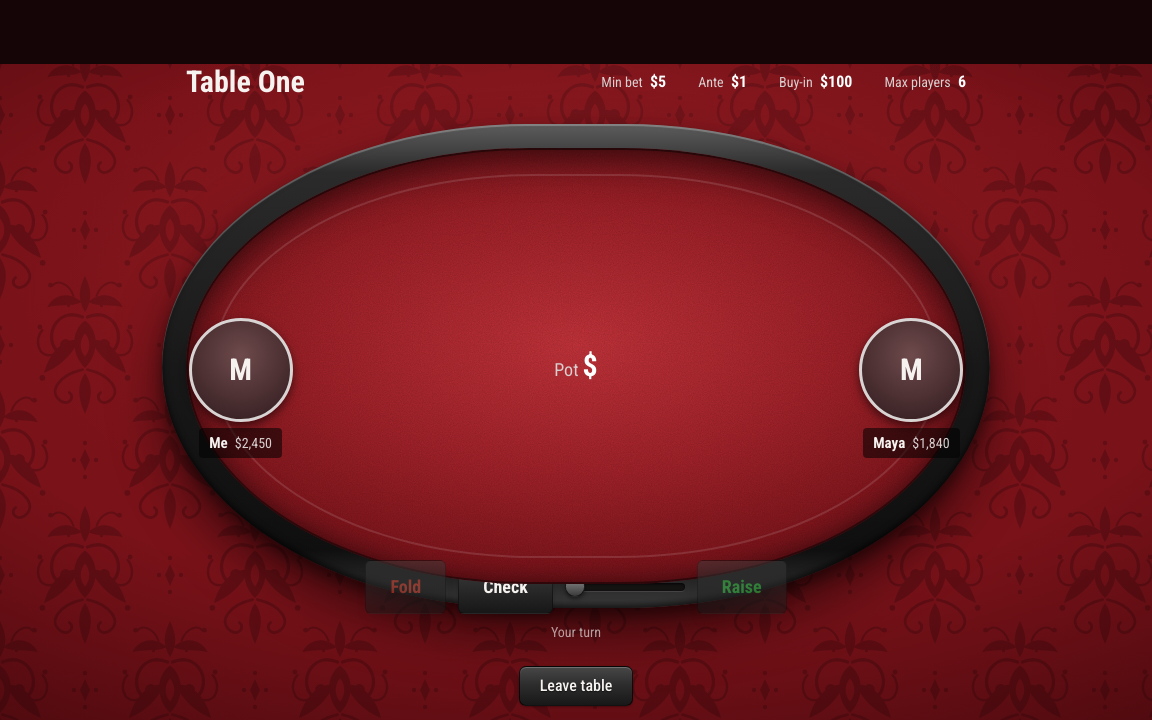
Scenario: GameTable › shows a refused action
The image size is (1152, 720).
expect the text "Maya" is shown: met, box [873, 434, 905, 452]
Click the button "Check" at (506, 587), box [458, 560, 553, 614]
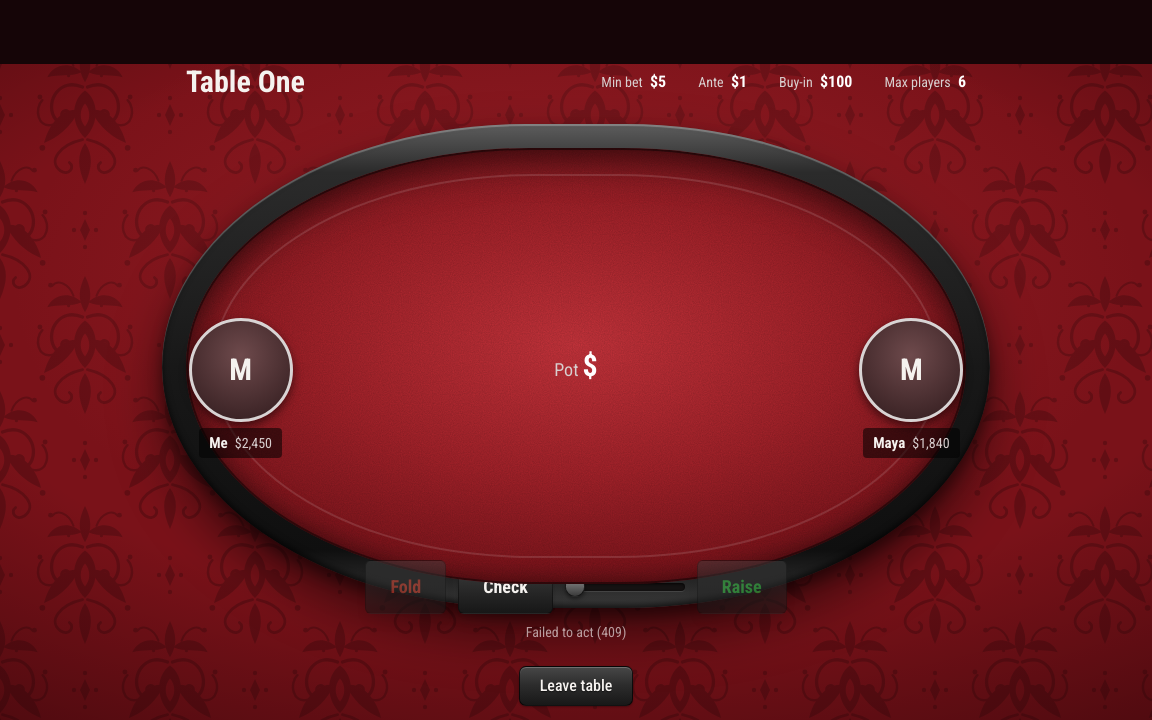
expect the text "Failed to act (409)" is shown: met, box [526, 622, 626, 642]
